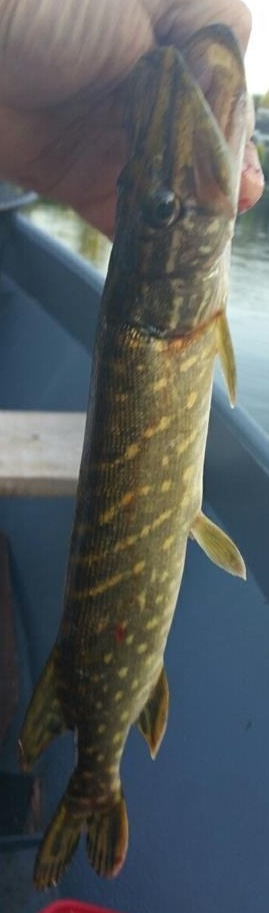Esox lucius: (20, 20, 249, 893)
